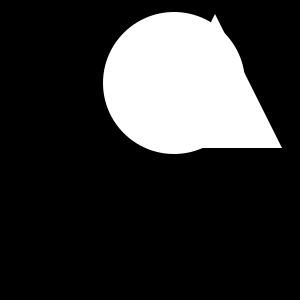rectangle: (103, 12, 245, 154)
triangle: (148, 14, 282, 148), (149, 17, 199, 67)
